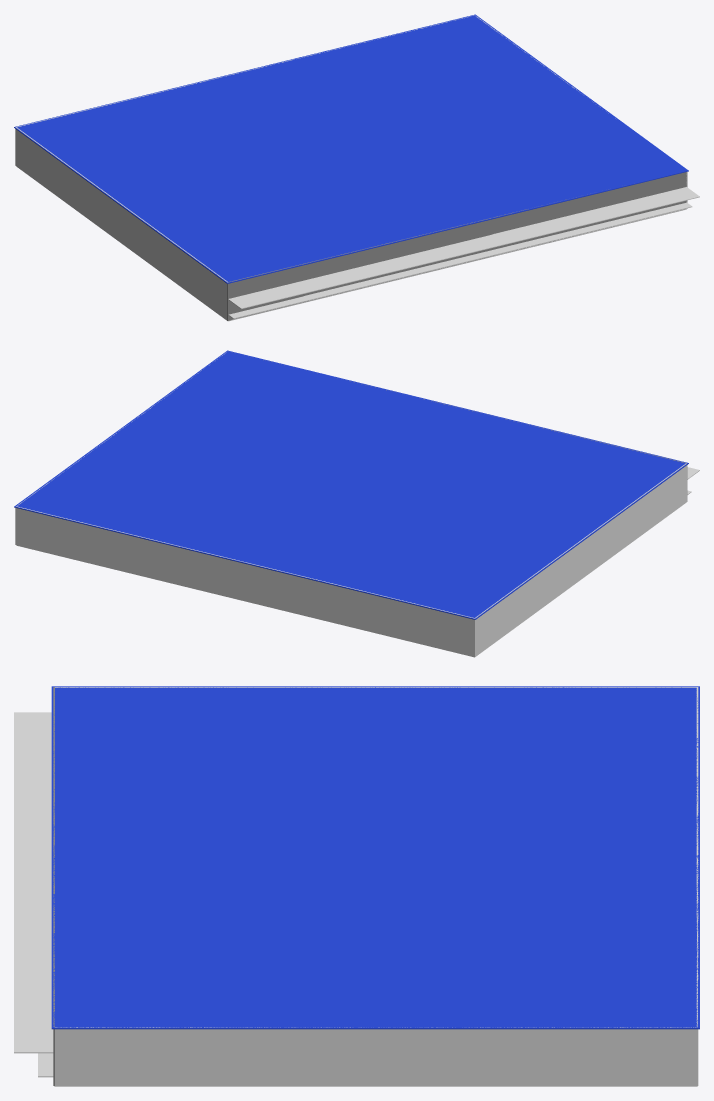
The model's file is warehouse_logistics_platform.glb.
3 renders of one model, top to bottom at view 1: azimuth 30°, elevation 25°; view 2: azimuth 150°, elevation 25°; view 3: azimuth 270°, elevation 25°, orthographic. The views are drawn at different scales.
Parts seen in each view (by area): view 1: 床 一般 150 mm [140220], 標準壁 一般 - 200 mm [140206], 標準壁 一般 - 200 mm [140209], 床 一般 150 mm [140236], 床 一般 150 mm [140243], 床 一般 150 mm [140212]; view 2: 床 一般 150 mm [140220], 標準壁 一般 - 200 mm [140208], 標準壁 一般 - 200 mm [140209], 床 一般 150 mm [140212]; view 3: 床 一般 150 mm [140220], 標準壁 一般 - 200 mm [140207], 床 一般 150 mm [140236], 標準壁 一般 - 200 mm [140206], 標準壁 一般 - 200 mm [140208], 床 一般 150 mm [140212], 標準壁 一般 - 200 mm [140209].
Part boxes in pixels (box(x1,y1,x2,y2)): 床 一般 150 mm [140220]: box(14, 14, 688, 283); 標準壁 一般 - 200 mm [140206]: box(227, 172, 687, 320); 標準壁 一般 - 200 mm [140209]: box(16, 127, 227, 320); 床 一般 150 mm [140236]: box(228, 187, 699, 309); 床 一般 150 mm [140243]: box(228, 202, 692, 318); 床 一般 150 mm [140212]: box(16, 166, 686, 321); 床 一般 150 mm [140220]: box(14, 350, 688, 619); 標準壁 一般 - 200 mm [140208]: box(16, 506, 475, 656); 標準壁 一般 - 200 mm [140209]: box(475, 463, 686, 656); 床 一般 150 mm [140212]: box(16, 502, 686, 657); 床 一般 150 mm [140220]: box(51, 686, 699, 1029); 標準壁 一般 - 200 mm [140207]: box(55, 1027, 698, 1085); 床 一般 150 mm [140236]: box(14, 712, 53, 1053); 標準壁 一般 - 200 mm [140206]: box(53, 687, 54, 1085); 標準壁 一般 - 200 mm [140208]: box(696, 687, 698, 1026); 床 一般 150 mm [140212]: box(54, 1086, 697, 1086); 標準壁 一般 - 200 mm [140209]: box(55, 687, 696, 687).
Size of the model in its own units: 101 by 8.15 by 85.3.
